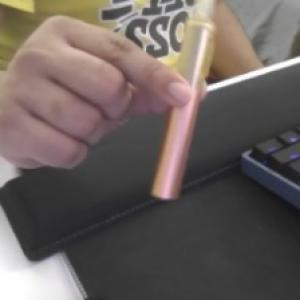Golden-E-Ciggirate: (150, 4, 219, 205)
